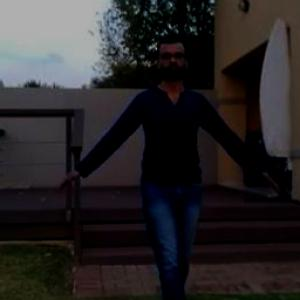land: (58, 46, 255, 299)
